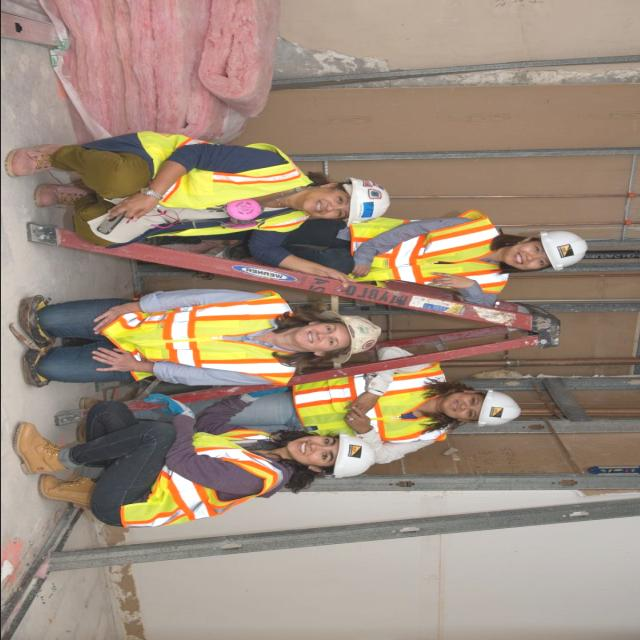Boots: (10, 420, 96, 509), (0, 136, 98, 212)
Gloves: (144, 385, 288, 419)
Hard Hat: (321, 306, 381, 366), (337, 172, 396, 230), (537, 226, 591, 272), (475, 384, 525, 430), (330, 429, 373, 481)
Reflective Vest: (132, 125, 315, 238), (100, 289, 303, 389), (116, 426, 294, 534), (344, 210, 514, 298), (290, 358, 450, 446)
Safety Glasses: (128, 199, 184, 233)
